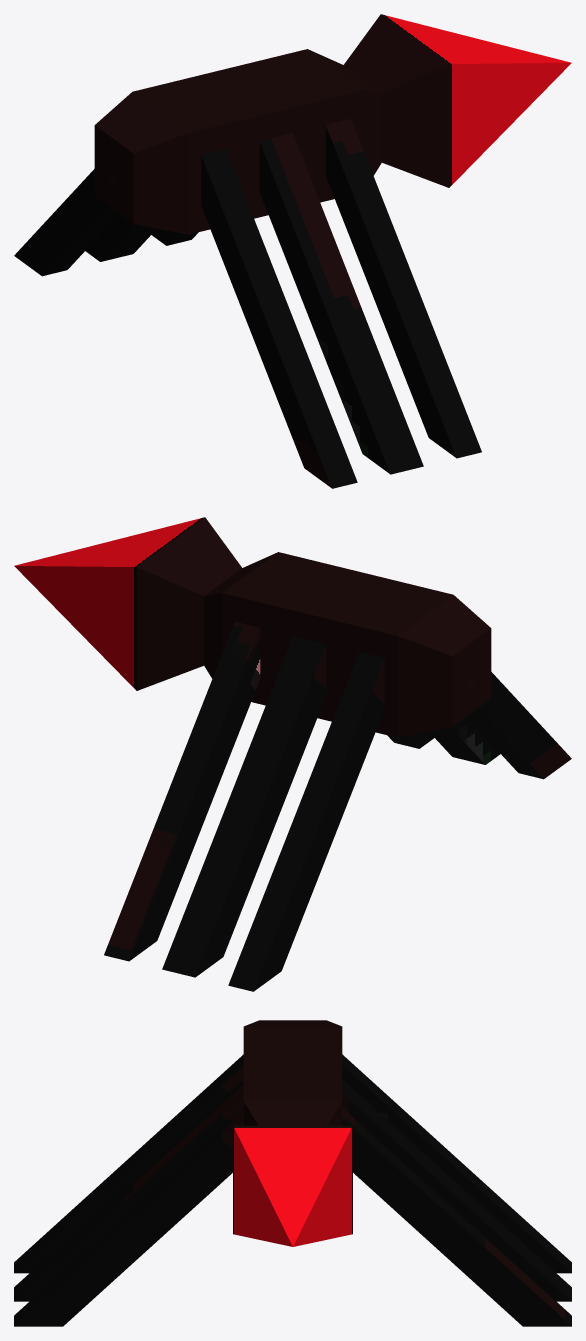
Rendered from small_enemy.glb.
3 renders of one model, top to bottom at view 1: azimuth 30°, elevation 25°; view 2: azimuth 150°, elevation 25°; view 3: azimuth 270°, elevation 25°, orthographic. The views are drawn at different scales.
Parts seen in each view (by area): view 1: Cube; view 2: Cube; view 3: Cube.
Part boxes in pixels (x1,y1,x2,y2): Cube: (14, 14, 571, 488); Cube: (14, 517, 571, 991); Cube: (14, 1020, 571, 1326).
Size of the model in its own units: 2.26 by 1.29 by 2.72.
Materials: 1 (1 with a texture image).
